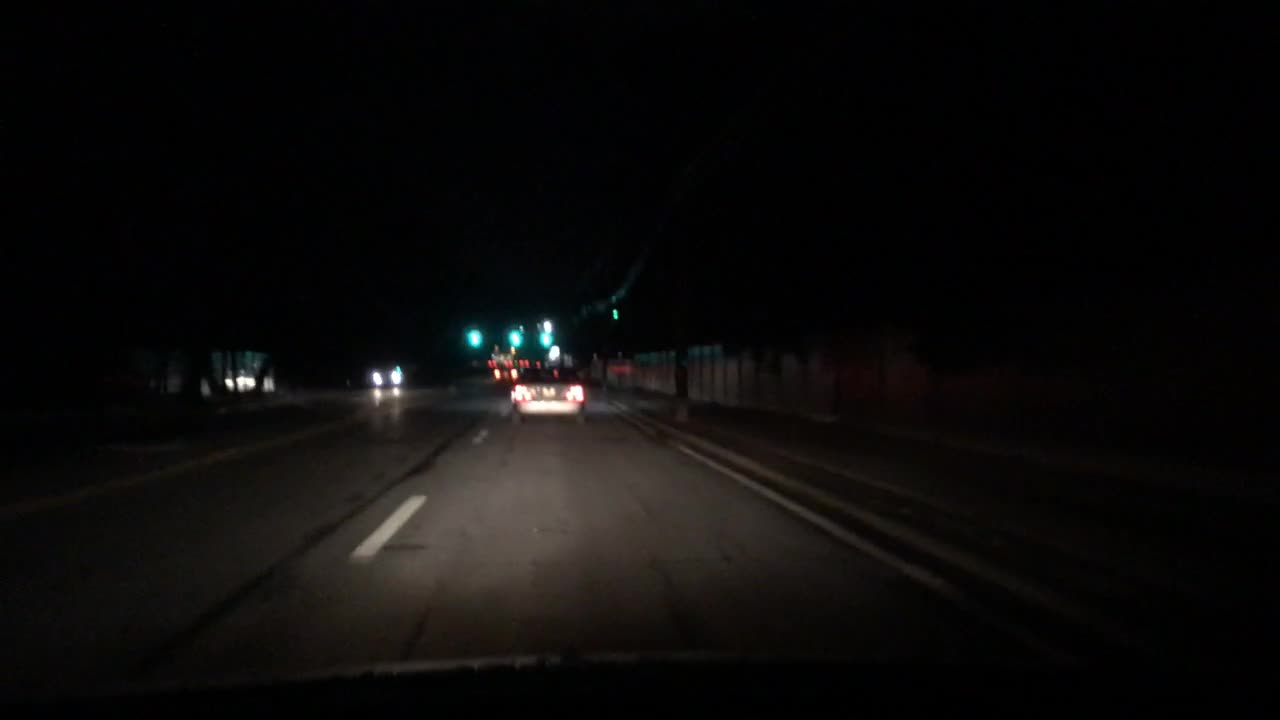car: (509, 369, 587, 423), (368, 361, 405, 388), (491, 364, 519, 385)
traffic light: (467, 326, 482, 347), (540, 327, 552, 347), (509, 327, 521, 346)
